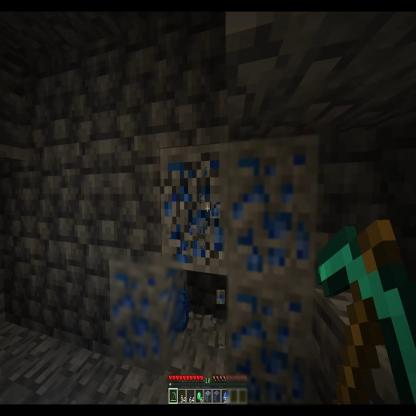lapis ore: (222, 127, 322, 274), (226, 274, 315, 412), (157, 139, 229, 277), (110, 256, 183, 365)
